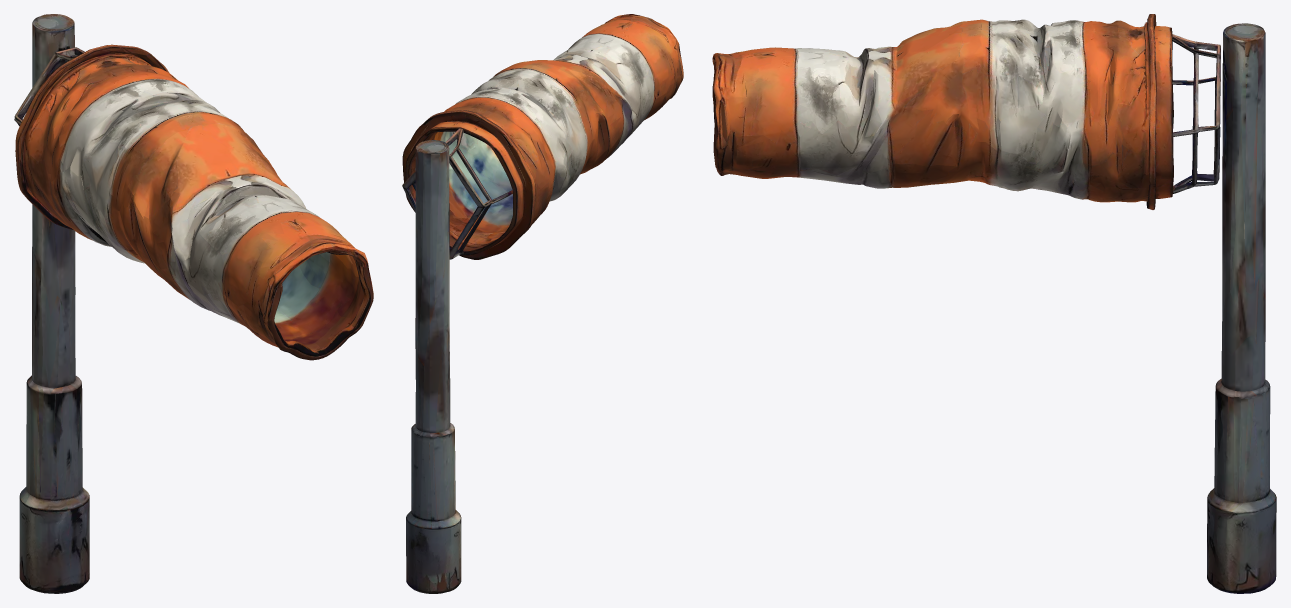
Rendered from windsock.glb.
3 renders of one model, left to right at view 1: azimuth 30°, elevation 25°; view 2: azimuth 150°, elevation 25°; view 3: azimuth 270°, elevation 25°, orthographic. The views are drawn at different scales.
Size of the model in its own units: 0.586 by 1.9 by 1.74.
1 material, 1 textured.
